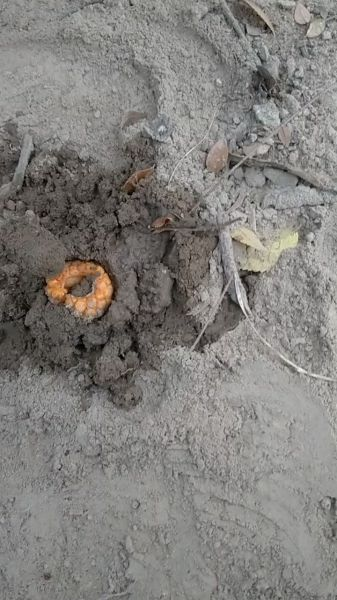eggs: (39, 258, 120, 329)
